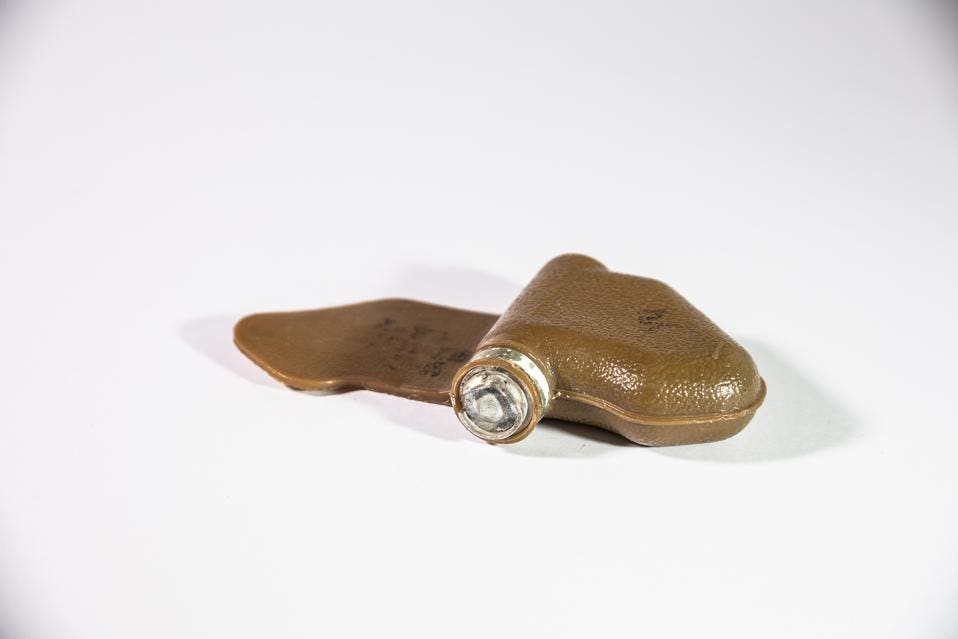butterfly: (215, 236, 790, 461)
